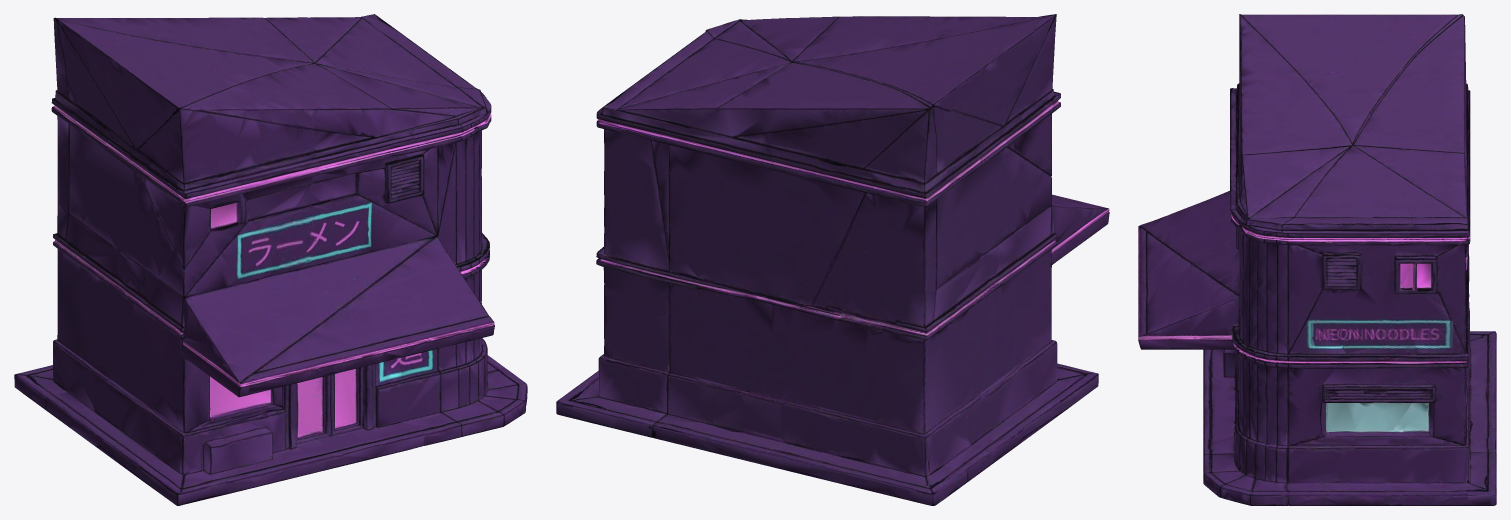
Rendered from low-building-2.glb.
3 renders of one model, left to right at view 1: azimuth 30°, elevation 25°; view 2: azimuth 150°, elevation 25°; view 3: azimuth 270°, elevation 25°, orthographic. The views are drawn at different scales.
Parts seen in each view (by area): view 1: mesh_node; view 2: mesh_node; view 3: mesh_node.
Boxes of the visible parts, x1,y1,x2,y2 form: mesh_node: (14,14,527,505); mesh_node: (556,14,1109,505); mesh_node: (1138,14,1496,505).
Bounding box in the file's own units: 1.9 × 1.82 × 1.75.
1 material, 1 textured.
